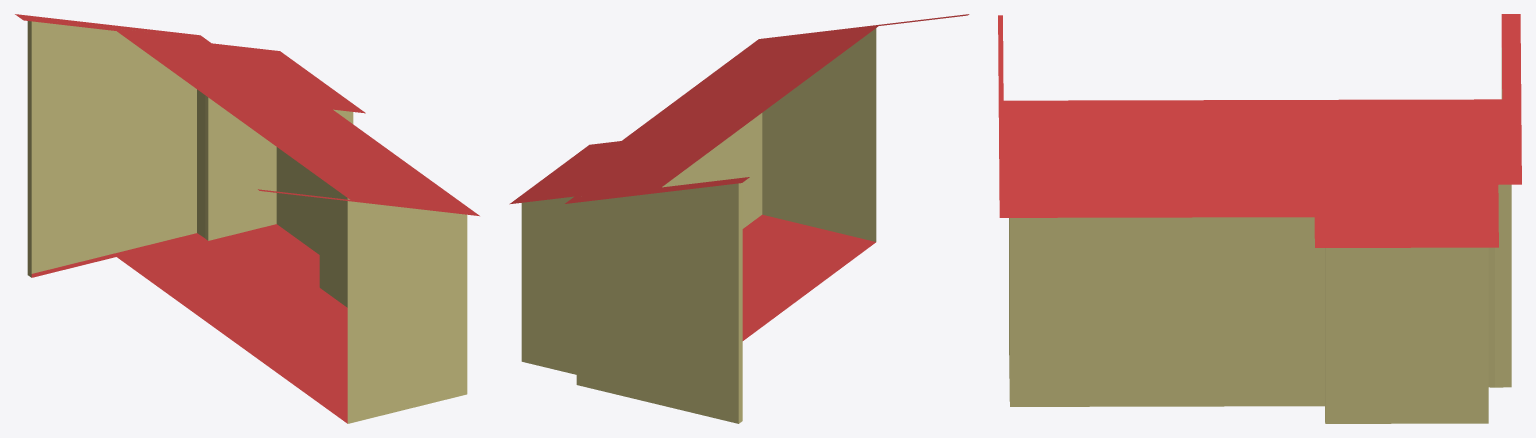
3 views of the same model, side by side, from view 1: azimuth 30°, elevation 25°; view 2: azimuth 150°, elevation 25°; view 3: azimuth 270°, elevation 25° (orthographic). The views are drawn at different scales.
Size of the model in its own units: 7.73 by 12.7 by 7.48.
